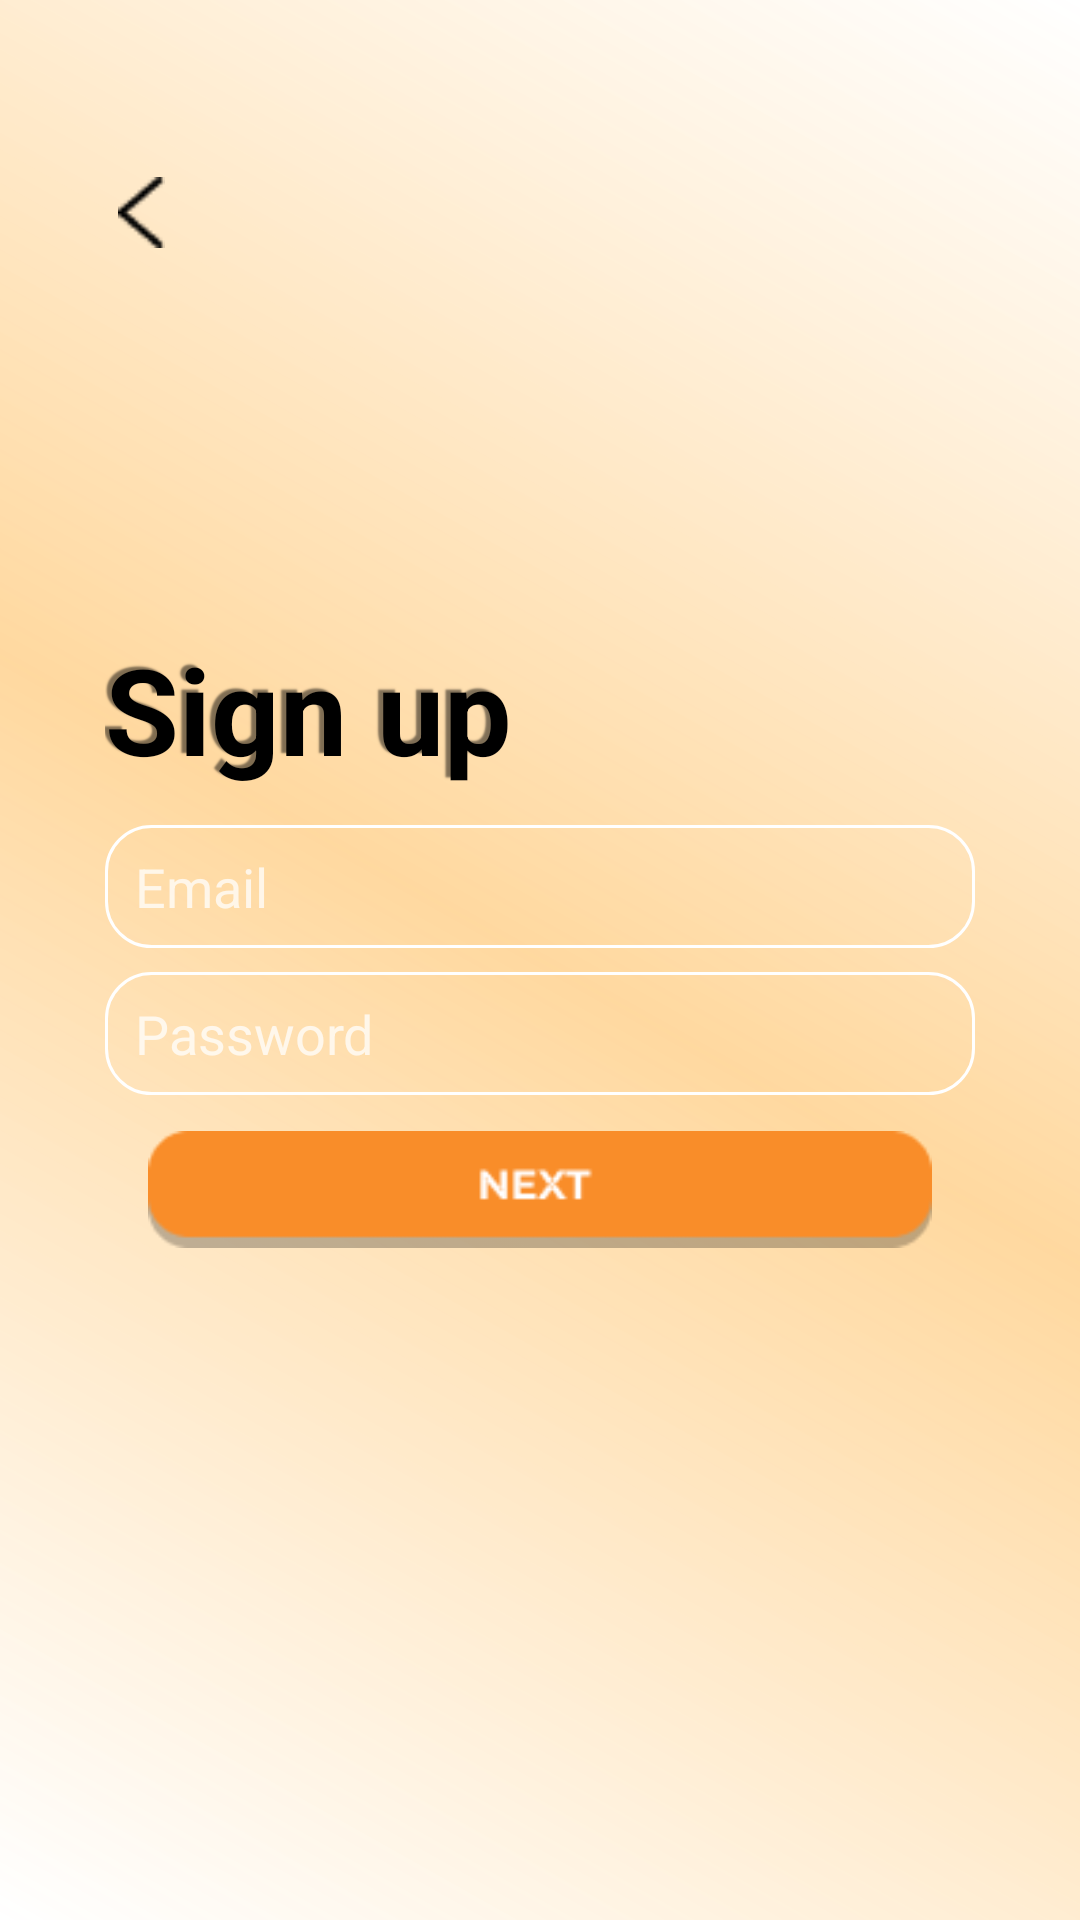

Point at icon controls on the screen. Image size 1080*1920, points as point (x, y).
back: point (141, 212)
